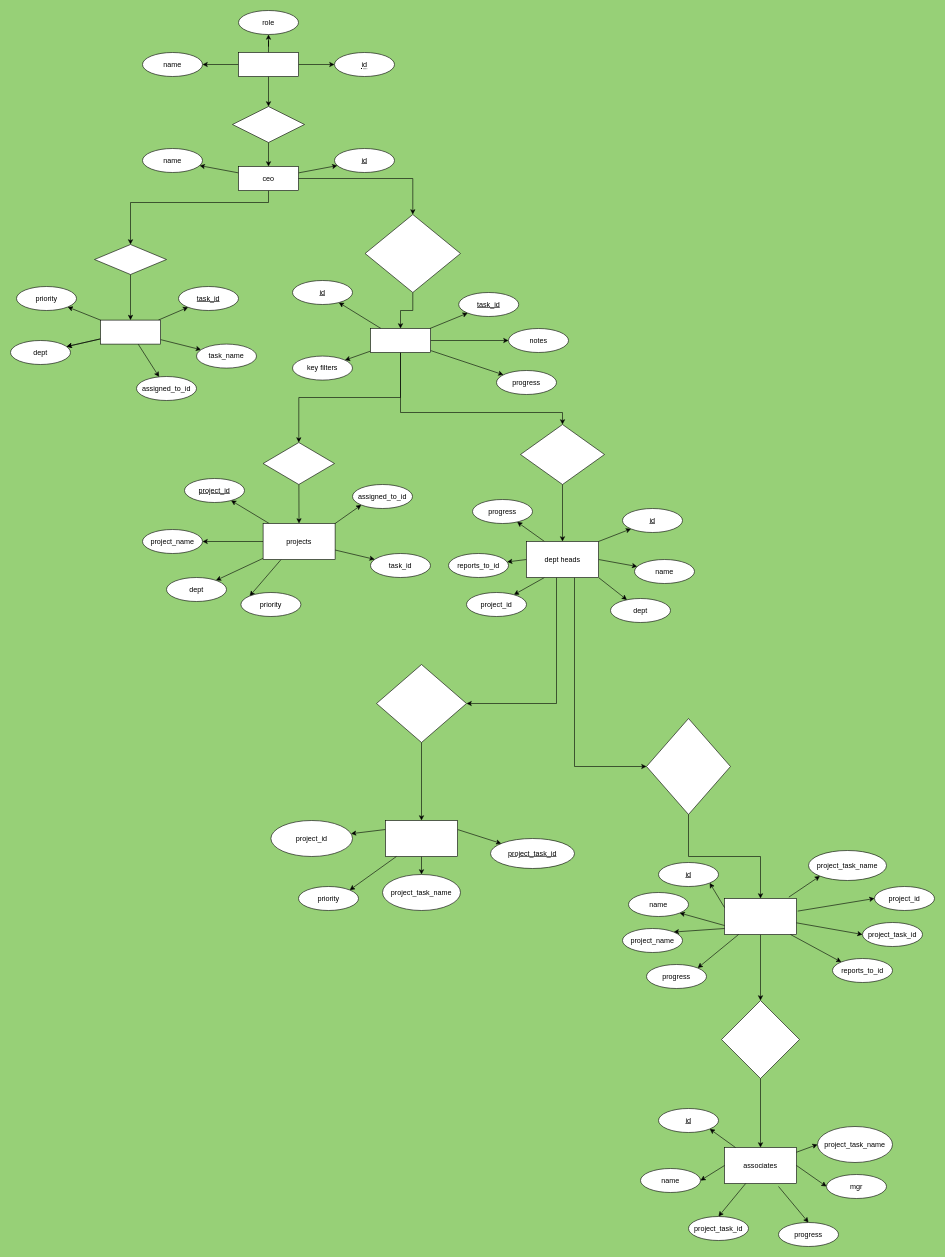
Some shapes in this 945 by 1257 pixel diagram are drawn without their labels. The box of each missing label's shape, as (x1, y1, x2, y2) in pixels:
assigning project tasks to managers: (646, 718, 730, 814)
assigns the projects to dept heads: (520, 424, 604, 484)
assigns the tasks to c-level members: (364, 214, 460, 292)
board: (238, 52, 298, 76)
c-level members: (370, 328, 430, 352)
divides tasks into projects: (262, 442, 334, 484)
dividing projects to project_tasks: (376, 664, 466, 742)
give the tasks to associates: (721, 1000, 800, 1078)
lists out the tasks: (94, 244, 166, 274)
managers: (724, 898, 796, 934)
project_tasks: (385, 820, 458, 856)
tasks: (100, 320, 160, 344)
tells the tasks: (232, 106, 304, 142)
